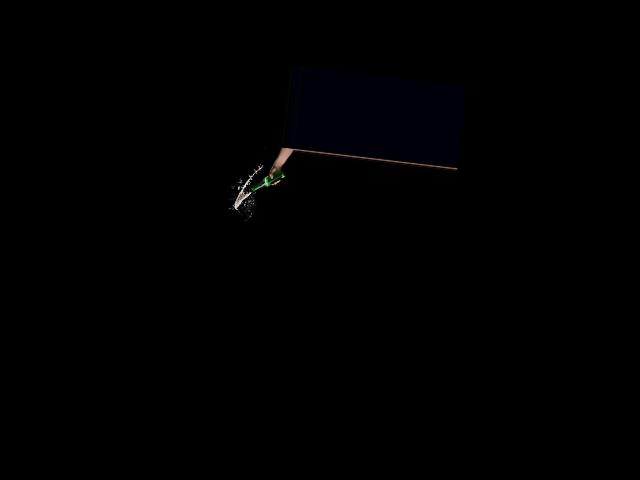beer: (252, 166, 286, 195)
